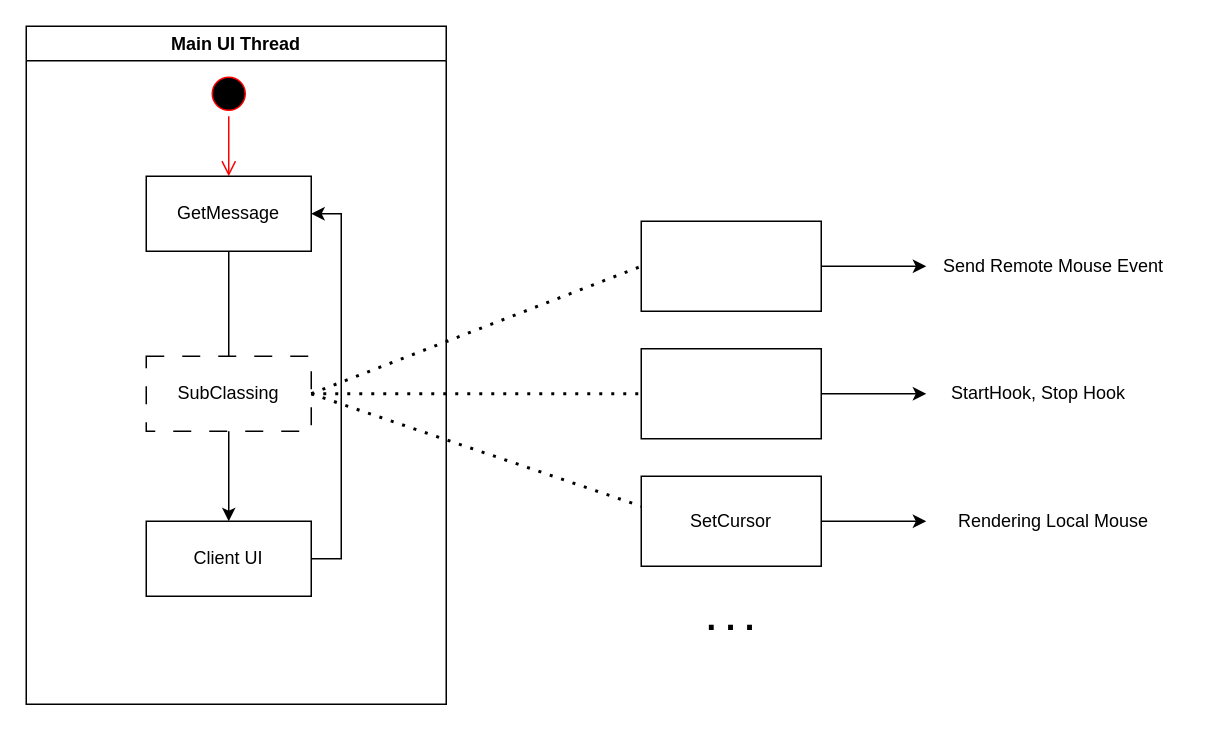
This 1208x731 diagram has some shape labels left out. Each missing label, with the centre of its shape:
"Mouse Hook" belongs at point 730,265.
"SetFocus, KillFocus" belongs at point 730,393.
